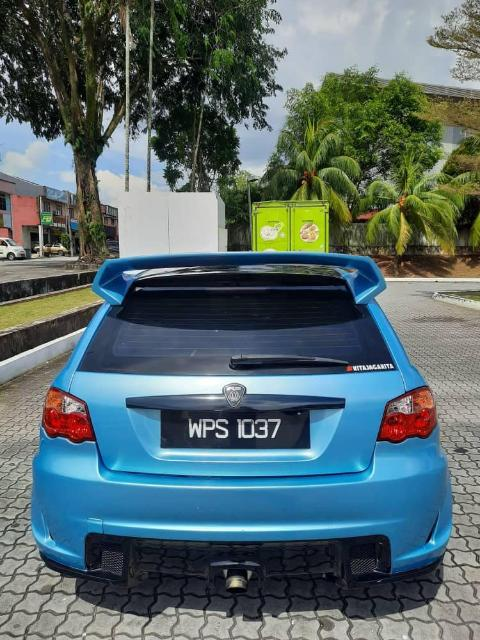License_Plate: (167, 407, 298, 451)
car: (28, 248, 450, 585)
